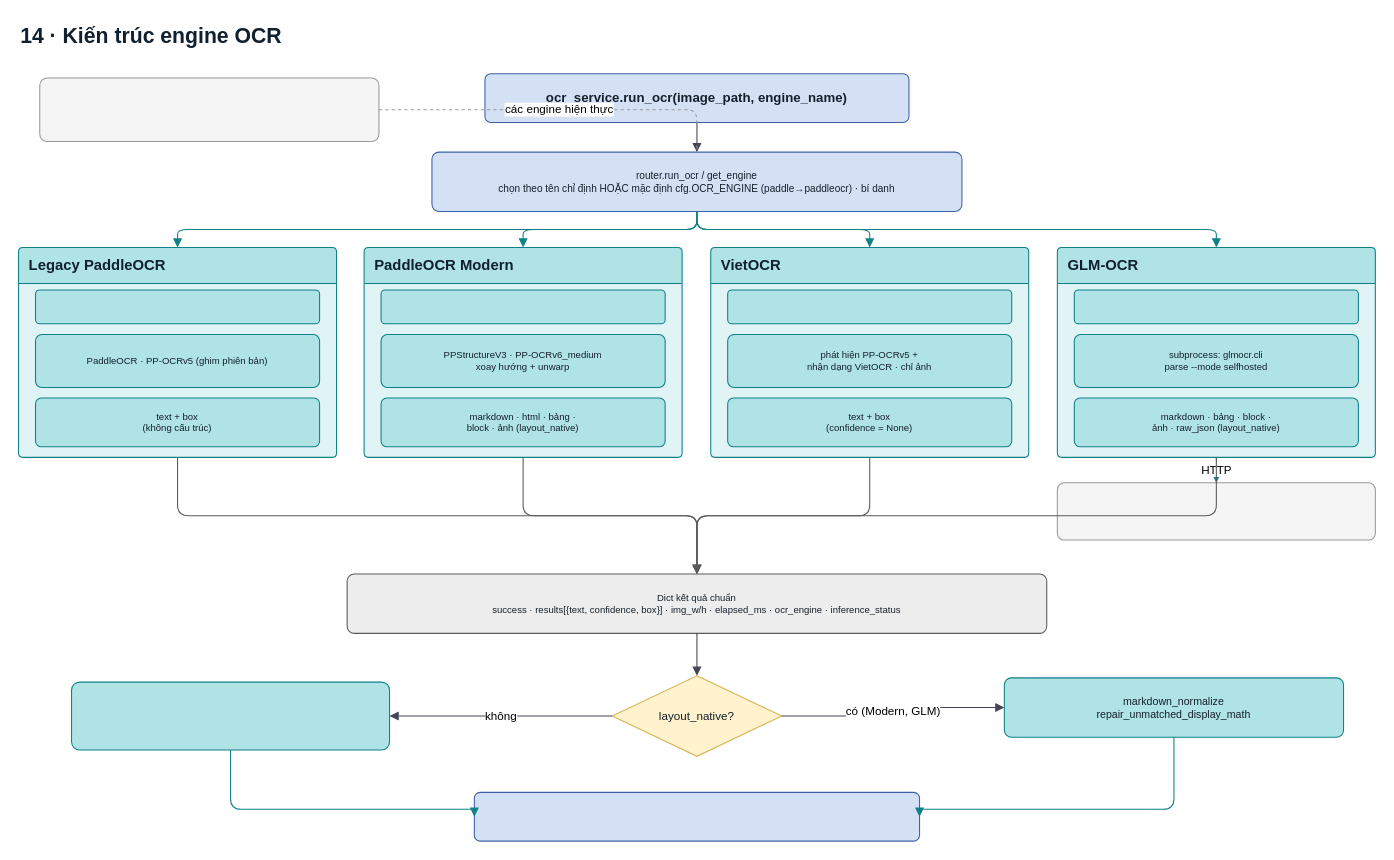
This 1394x860 diagram has some shape labels left out. Each missing label, with the centre of its shape:
"GLM MLX server :8080 (GLM_OCR_API_URL)" goes at (x=1215, y=511).
"GLMOCREngine" goes at (x=1215, y=306).
"layout_service → geometry_service khôi phục thứ tự đọc (Legacy, VietOCR)" goes at (x=230, y=715).
"ocr_service trả về dict → Quy trình OCR (lưu + lập chỉ mục)" goes at (x=696, y=816).
"OCREngine (ABC · base.py) run(image_path) → dict chuẩn" goes at (x=209, y=109).
"PaddleOCREngine" goes at (x=177, y=306).
"PaddleOCRModernEngine" goes at (x=522, y=306).
"VietOCREngine" goes at (x=869, y=306).
